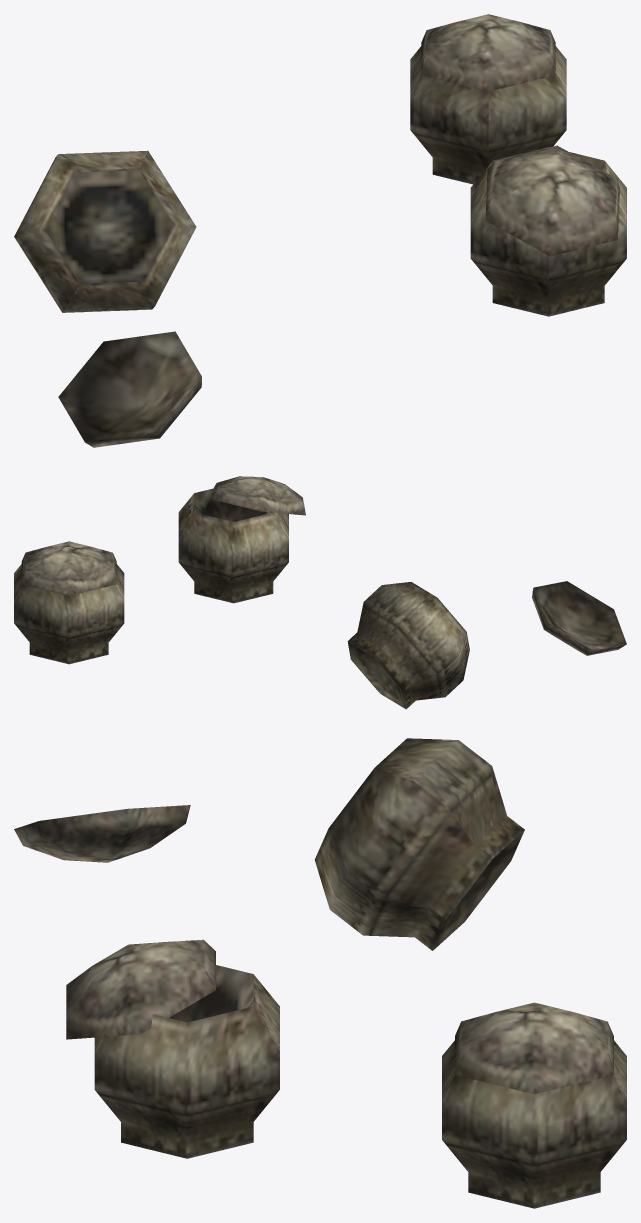
Rendered from cj_graveyard_coffin02.glb.
3 views of the same model, one above another, from view 1: azimuth 30°, elevation 25°; view 2: azimuth 150°, elevation 25°; view 3: azimuth 270°, elevation 25° (orthographic). The views are drawn at different scales.
Visible parts, largest first — view 1: cj_graveyard_coffin02; view 2: cj_graveyard_coffin02; view 3: cj_graveyard_coffin02.
Part boxes in pixels (bbox=[...]): cj_graveyard_coffin02: bbox=[14, 14, 626, 447]; cj_graveyard_coffin02: bbox=[14, 476, 626, 709]; cj_graveyard_coffin02: bbox=[14, 738, 626, 1208].
Size of the model in its own units: 1.79 by 0.3721 by 1.19.
Materials: 1 (1 with a texture image).
